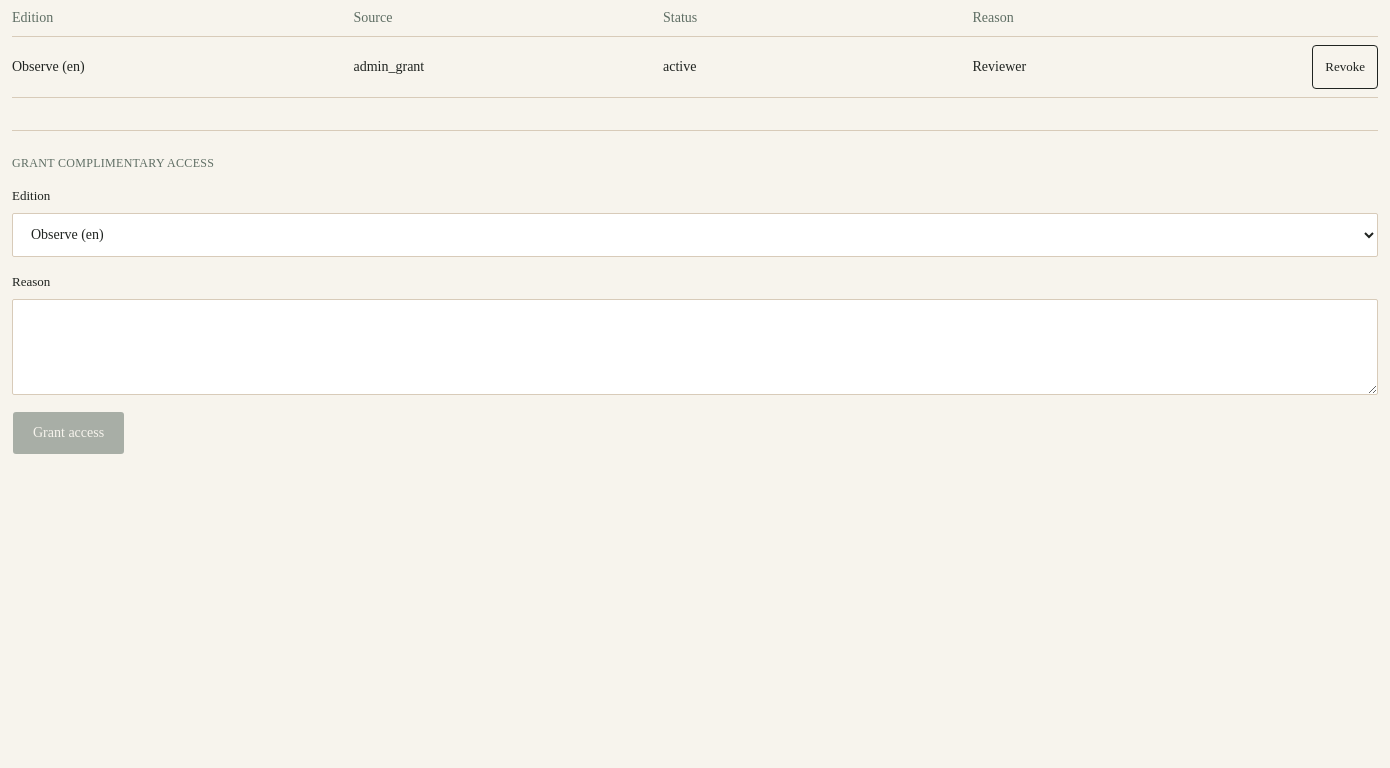
Test: prompts for a reason and revokes the selected entitlement
Click the button "Revoke" at (1345, 67), box [1312,45,1378,89]
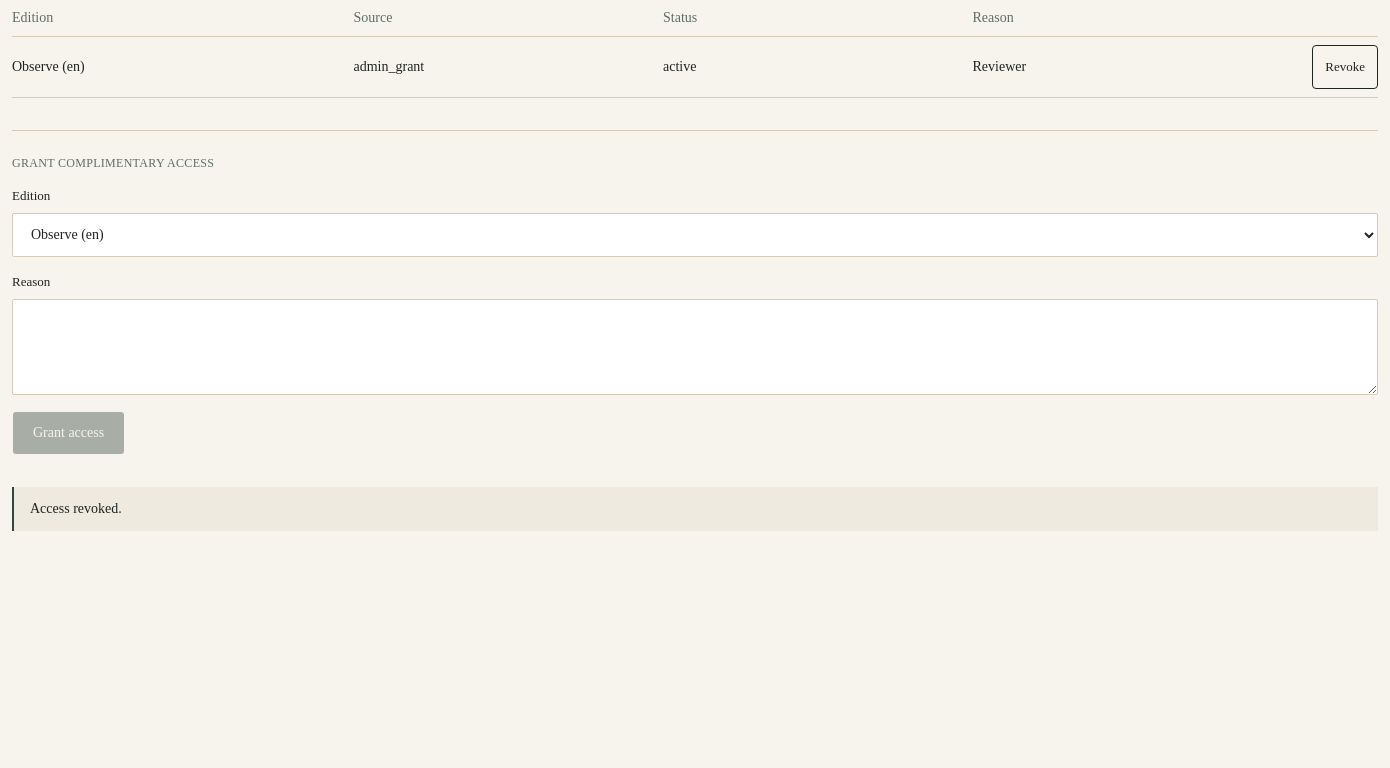
expect the message reads "Access revoked.": met, box [30,501,122,516]
